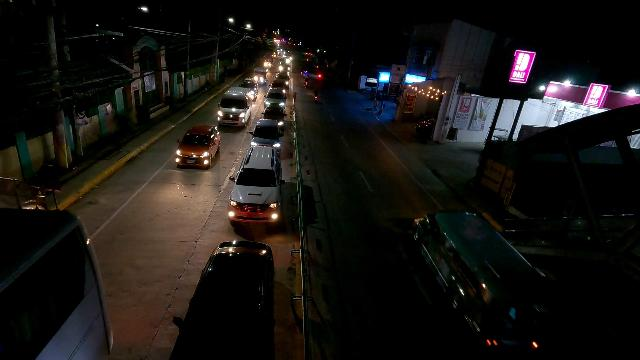car: (164, 238, 276, 360), (228, 144, 284, 227), (172, 123, 220, 168), (249, 118, 282, 152), (260, 102, 287, 128), (264, 86, 288, 107), (270, 79, 289, 97), (241, 78, 258, 97), (274, 71, 291, 85)
jeepney: (409, 211, 556, 350), (253, 67, 268, 85)
motorcycle: (313, 90, 319, 102), (304, 77, 309, 89)
van: (217, 86, 252, 126)
